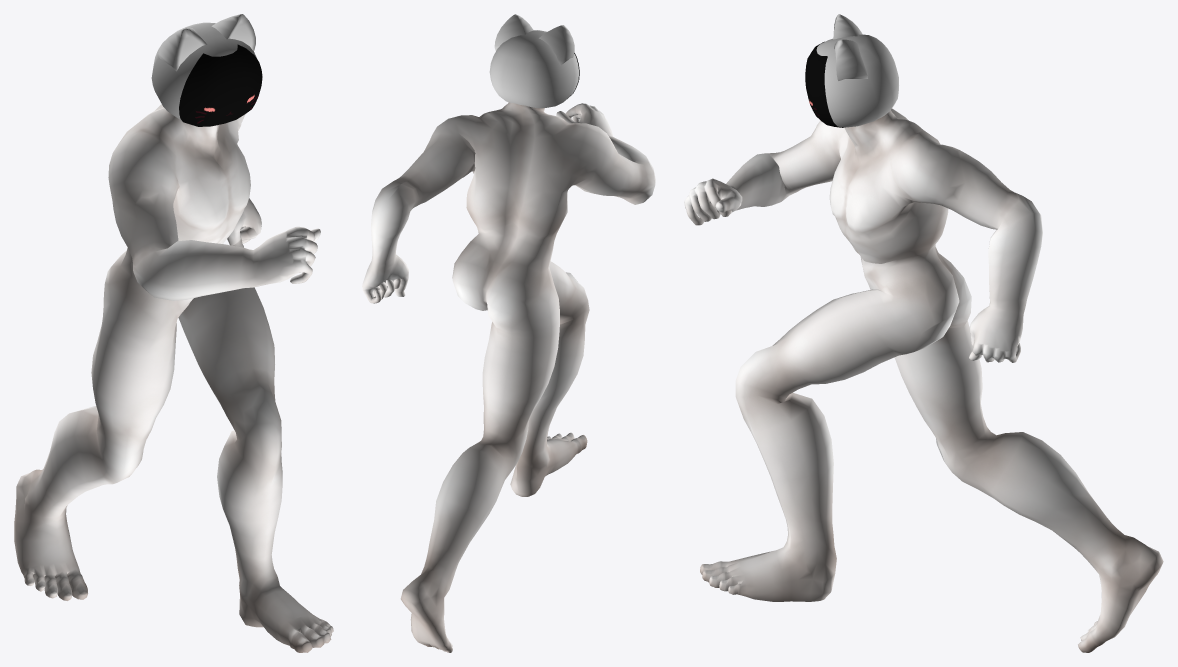
3 views of the same model, side by side, from view 1: azimuth 30°, elevation 25°; view 2: azimuth 150°, elevation 25°; view 3: azimuth 270°, elevation 25° (orthographic). The views are drawn at different scales.
Visible parts, largest first — view 1: Muscle_Body, ______?001, Cat_Head; view 2: Muscle_Body, Cat_Head; view 3: Muscle_Body, Cat_Head, ______?001.
Boxes of the visible parts, bbox=[...] form: Muscle_Body: bbox=[14, 104, 333, 652]; ______?001: bbox=[179, 44, 262, 126]; Cat_Head: bbox=[151, 14, 256, 120]; Muscle_Body: bbox=[362, 102, 655, 652]; Cat_Head: bbox=[489, 14, 578, 108]; Muscle_Body: bbox=[684, 108, 1163, 652]; Cat_Head: bbox=[816, 14, 898, 127]; ______?001: bbox=[805, 41, 843, 127].
Bounding box in the file's own units: 10.19 × 28.13 × 19.55.
